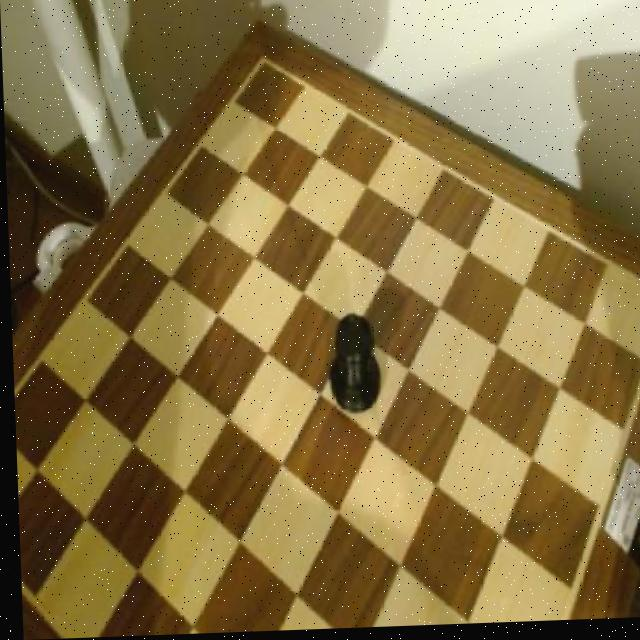black-queen: (320, 312, 383, 423)
